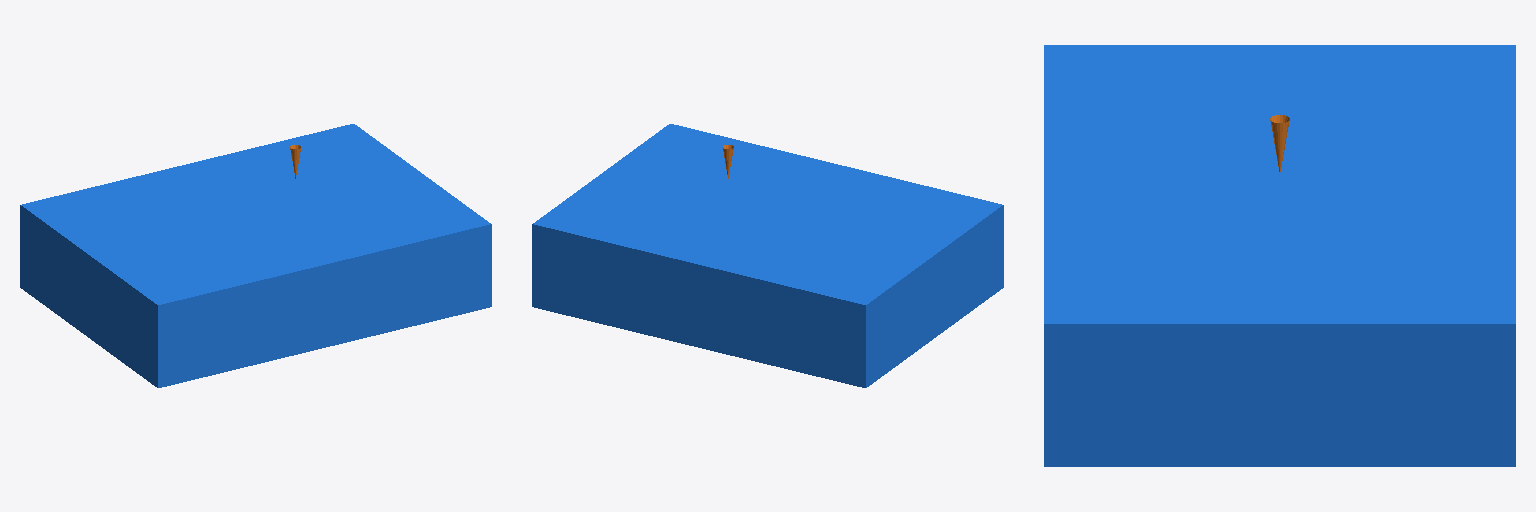
The robot description file, URDF, robot "diff_drive_2w":
<?xml version="1.0"?>
<!-- Lappa aligned 3D robot - package diff_drive_2w -->
<robot name="diff_drive_2w">
  <link name="base_footprint"/>
  <joint name="base_joint" type="fixed">
    <parent link="base_footprint"/>
    <child link="base_link"/>
    <origin xyz="0 0 0.08000" rpy="0 0 0"/>
  </joint>

  <link name="base_link">
    <visual>
      <origin xyz="0 0 0" rpy="0 0 0"/>
      <geometry>
        <mesh filename="package://diff_drive_2w/meshes/diff_drive_2w_chassis.obj" scale="1 1 1"/>
      </geometry>
      <material name="lappa_mesh">
        <color rgba="0.2 0.55 0.95 1"/>
      </material>
    </visual>
    <collision>
      <origin xyz="0 0 0" rpy="0 0 0"/>
      <geometry>
        <mesh filename="package://diff_drive_2w/meshes/diff_drive_2w_chassis.obj" scale="1 1 1"/>
      </geometry>
    </collision>
  </link>

  <link name="wheel_left">
    <visual>
      <origin xyz="0 0 0" rpy="0 0 0"/>
      <geometry>
        <mesh filename="package://diff_drive_2w/meshes/diff_drive_2w_wheel_left.obj" scale="1 1 1"/>
      </geometry>
      <material name="lappa_mesh">
        <color rgba="0.15 0.15 0.18 1"/>
      </material>
    </visual>
    <collision>
      <origin xyz="0 0 0" rpy="0 0 0"/>
      <geometry>
        <mesh filename="package://diff_drive_2w/meshes/diff_drive_2w_wheel_left.obj" scale="1 1 1"/>
      </geometry>
    </collision>
  </link>

  <joint name="wheel_left_joint" type="continuous">
    <parent link="base_link"/>
    <child link="wheel_left"/>
    <origin xyz="0.00000 0.16000 -0.03000" rpy="0 0 0.00000"/>
    <axis xyz="0 1 0"/>
  </joint>

  <link name="wheel_right">
    <visual>
      <origin xyz="0 0 0" rpy="0 0 0"/>
      <geometry>
        <mesh filename="package://diff_drive_2w/meshes/diff_drive_2w_wheel_right.obj" scale="1 1 1"/>
      </geometry>
      <material name="lappa_mesh">
        <color rgba="0.15 0.15 0.18 1"/>
      </material>
    </visual>
    <collision>
      <origin xyz="0 0 0" rpy="0 0 0"/>
      <geometry>
        <mesh filename="package://diff_drive_2w/meshes/diff_drive_2w_wheel_right.obj" scale="1 1 1"/>
      </geometry>
    </collision>
  </link>

  <joint name="wheel_right_joint" type="continuous">
    <parent link="base_link"/>
    <child link="wheel_right"/>
    <origin xyz="0.00000 -0.16000 -0.03000" rpy="0 0 0.00000"/>
    <axis xyz="0 1 0"/>
  </joint>

  <link name="lidar_link">
    <visual>
      <origin xyz="0 0 0" rpy="0 0 0"/>
      <geometry>
        <mesh filename="package://diff_drive_2w/meshes/diff_drive_2w_lidar.obj" scale="1 1 1"/>
      </geometry>
      <material name="lappa_mesh">
        <color rgba="0.95 0.55 0.2 1"/>
      </material>
    </visual>
    <collision>
      <origin xyz="0 0 0" rpy="0 0 0"/>
      <geometry>
        <mesh filename="package://diff_drive_2w/meshes/diff_drive_2w_lidar.obj" scale="1 1 1"/>
      </geometry>
    </collision>
  </link>

  <joint name="lidar_joint" type="fixed">
    <parent link="base_link"/>
    <child link="lidar_link"/>
    <origin xyz="0.05000 0.00000 0.08000" rpy="0 0 0"/>
  </joint>

</robot>

--- Facts derived from the render (not from the file) ---
Views: 3 orthographic renders of the robot side by side, from view 1: azimuth 30°, elevation 25°; view 2: azimuth 150°, elevation 25°; view 3: azimuth 270°, elevation 25°.
Robot: diff_drive_2w — 5 links, 4 joints (2 continuous, 2 fixed); root link base_footprint; default pose: all joints at 0.
Visible links, largest first — view 1: base_link; view 2: base_link; view 3: base_link, lidar_link.
Boxes of the visible links, x1,y1,x2,y2 form: base_link: (20, 124, 491, 387); base_link: (532, 124, 1003, 387); base_link: (1044, 45, 1515, 466); lidar_link: (1270, 115, 1289, 171).
Size in the robot's own frame: 0.42 by 0.3 by 0.1695 metres.
2 mesh visuals loaded from 4 distinct referenced files (2 OBJ); not drawn: 2 (reference not matched to a file when rendering).
